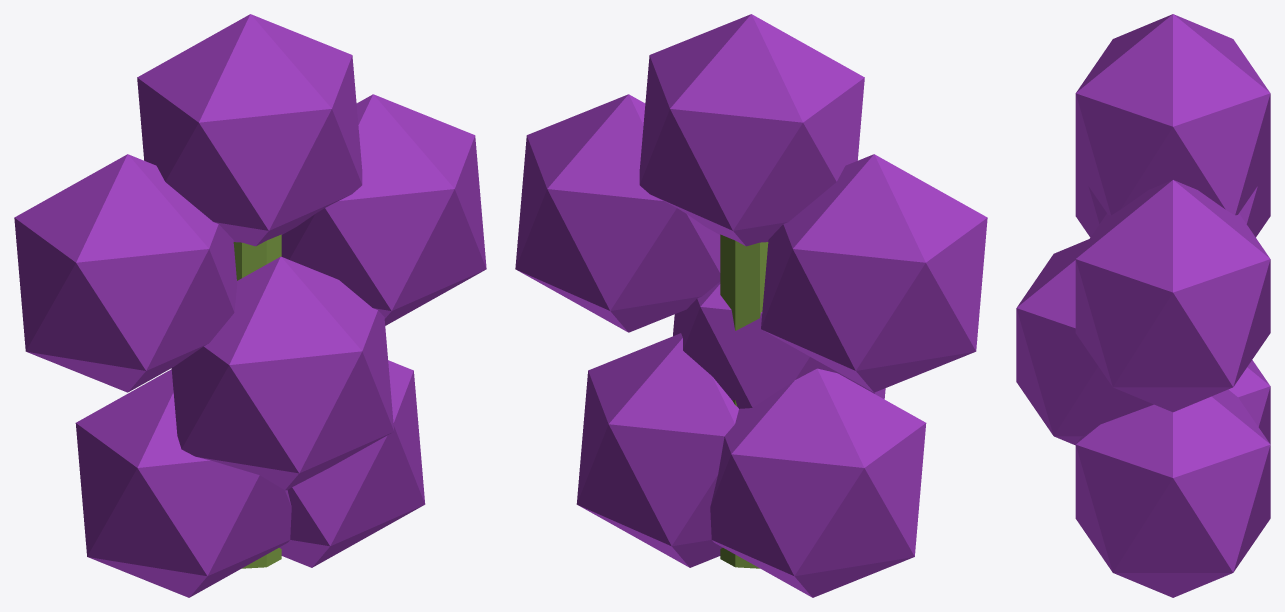
Rendered from harvest_drop_grape.glb.
3 renders of one model, left to right at view 1: azimuth 30°, elevation 25°; view 2: azimuth 150°, elevation 25°; view 3: azimuth 270°, elevation 25°, orthographic. The views are drawn at different scales.
Parts seen in each view (by area): view 1: FTF_Harvest_Drop_Grape_Bunch_Mesh; view 2: FTF_Harvest_Drop_Grape_Bunch_Mesh; view 3: FTF_Harvest_Drop_Grape_Bunch_Mesh.
Part boxes in pixels (x1,y1,x2,y2): FTF_Harvest_Drop_Grape_Bunch_Mesh: [14, 14, 486, 597]; FTF_Harvest_Drop_Grape_Bunch_Mesh: [515, 14, 987, 597]; FTF_Harvest_Drop_Grape_Bunch_Mesh: [1016, 14, 1270, 597].
Bounding box in the file's own units: 0.2563 × 0.31 × 0.1287.
